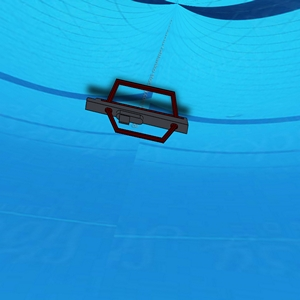submarine: (85, 79, 192, 146)
